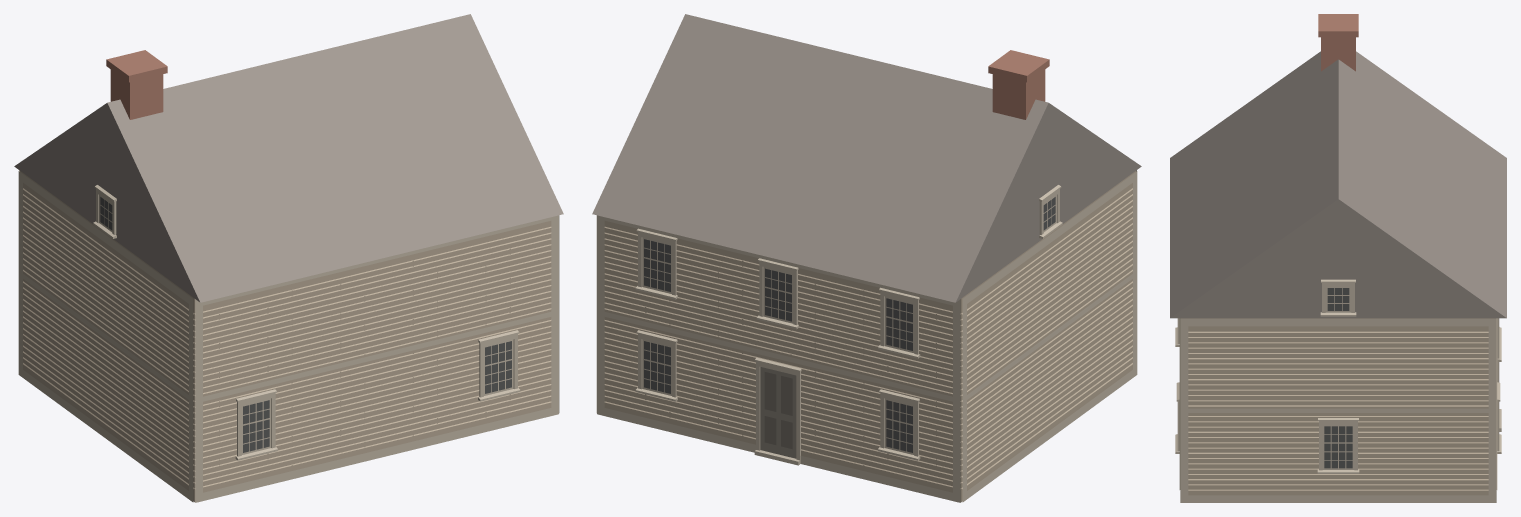
The model's file is temple_building__frame_1833.glb.
3 views of the same model, side by side, from view 1: azimuth 30°, elevation 25°; view 2: azimuth 150°, elevation 25°; view 3: azimuth 270°, elevation 25° (orthographic). The views are drawn at different scales.
Parts seen in each view (by area): view 1: temple_building__frame_1833; view 2: temple_building__frame_1833; view 3: temple_building__frame_1833.
Part boxes in pixels (left/top/right/bottom): temple_building__frame_1833: left=14, top=14, right=563, bottom=502; temple_building__frame_1833: left=592, top=14, right=1141, bottom=502; temple_building__frame_1833: left=1170, top=14, right=1506, bottom=502.
Size of the model in its own units: 9.37 by 8.85 by 8.12.
